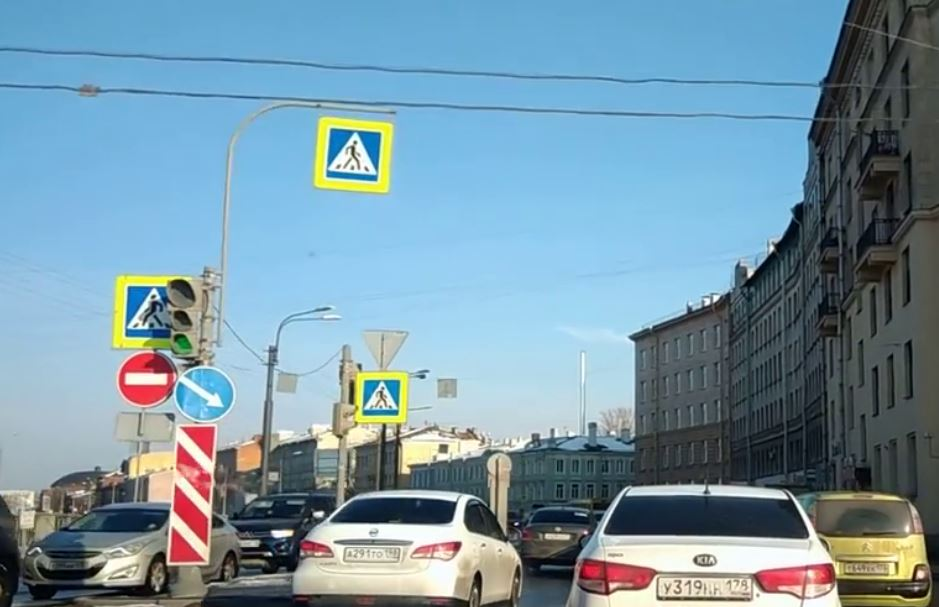Sagdan Git: (172, 365, 243, 429)
Yaya Gecidi: (123, 280, 172, 339), (329, 129, 379, 178), (367, 375, 401, 416)
